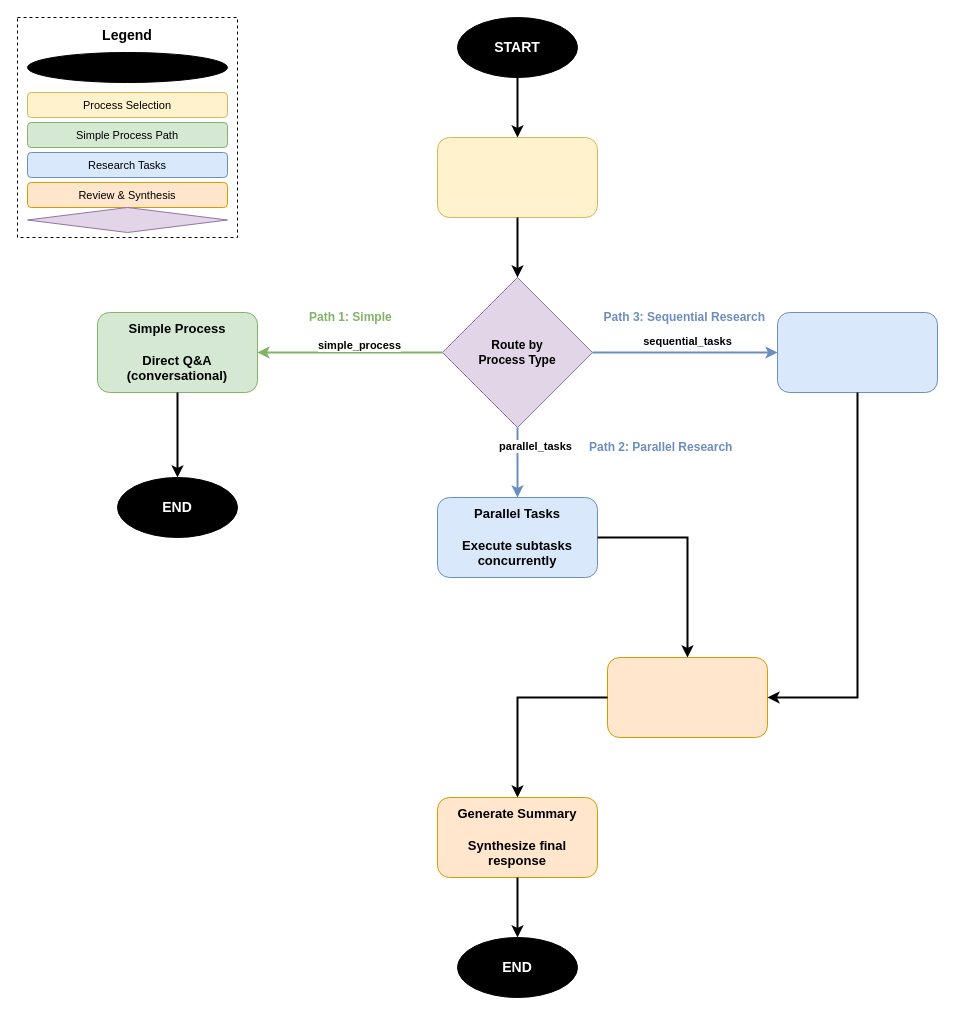
Some shapes in this 955 by 1015 pixel diagram are drawn without their labels. Each missing label, with the centre of its shape:
"Conditional Routing" belongs at [127,219].
"Entry/Exit Points" belongs at [127,67].
"Perform Review Analyze task results" belongs at [687,697].
"Process Selection Analyze query complexity" belongs at [517,177].
"Sequential Tasks Execute subtasks in order" belongs at [857,352].
